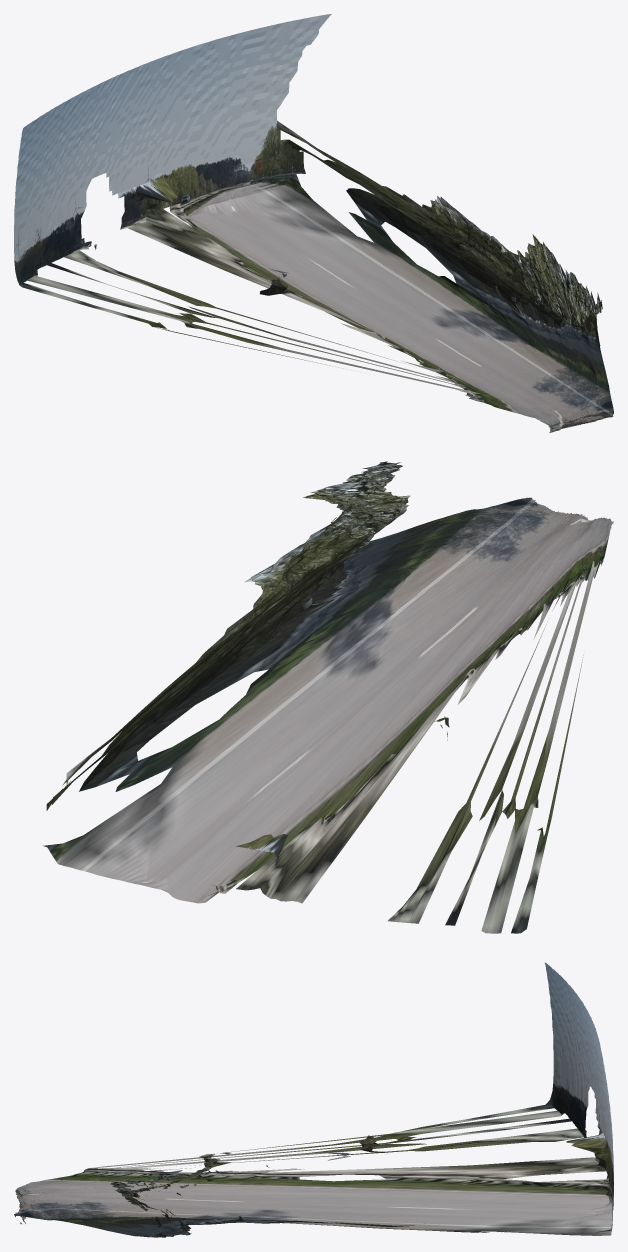
3 renders of one model, top to bottom at view 1: azimuth 30°, elevation 25°; view 2: azimuth 150°, elevation 25°; view 3: azimuth 270°, elevation 25°, orthographic. The views are drawn at different scales.
Parts seen in each view (by area): view 1: defaultobject; view 2: defaultobject; view 3: defaultobject.
Part boxes in pixels (x1,y1,x2,y2): defaultobject: (14, 14, 613, 432); defaultobject: (43, 461, 613, 933); defaultobject: (14, 962, 613, 1237).
Bounding box in the file's own units: 27.88 × 12.84 × 44.49.
Materials: 1 (1 with a texture image).
